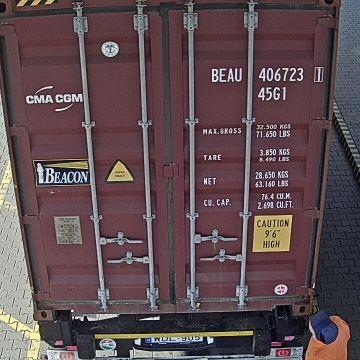serial_id: (211, 67, 323, 81)
